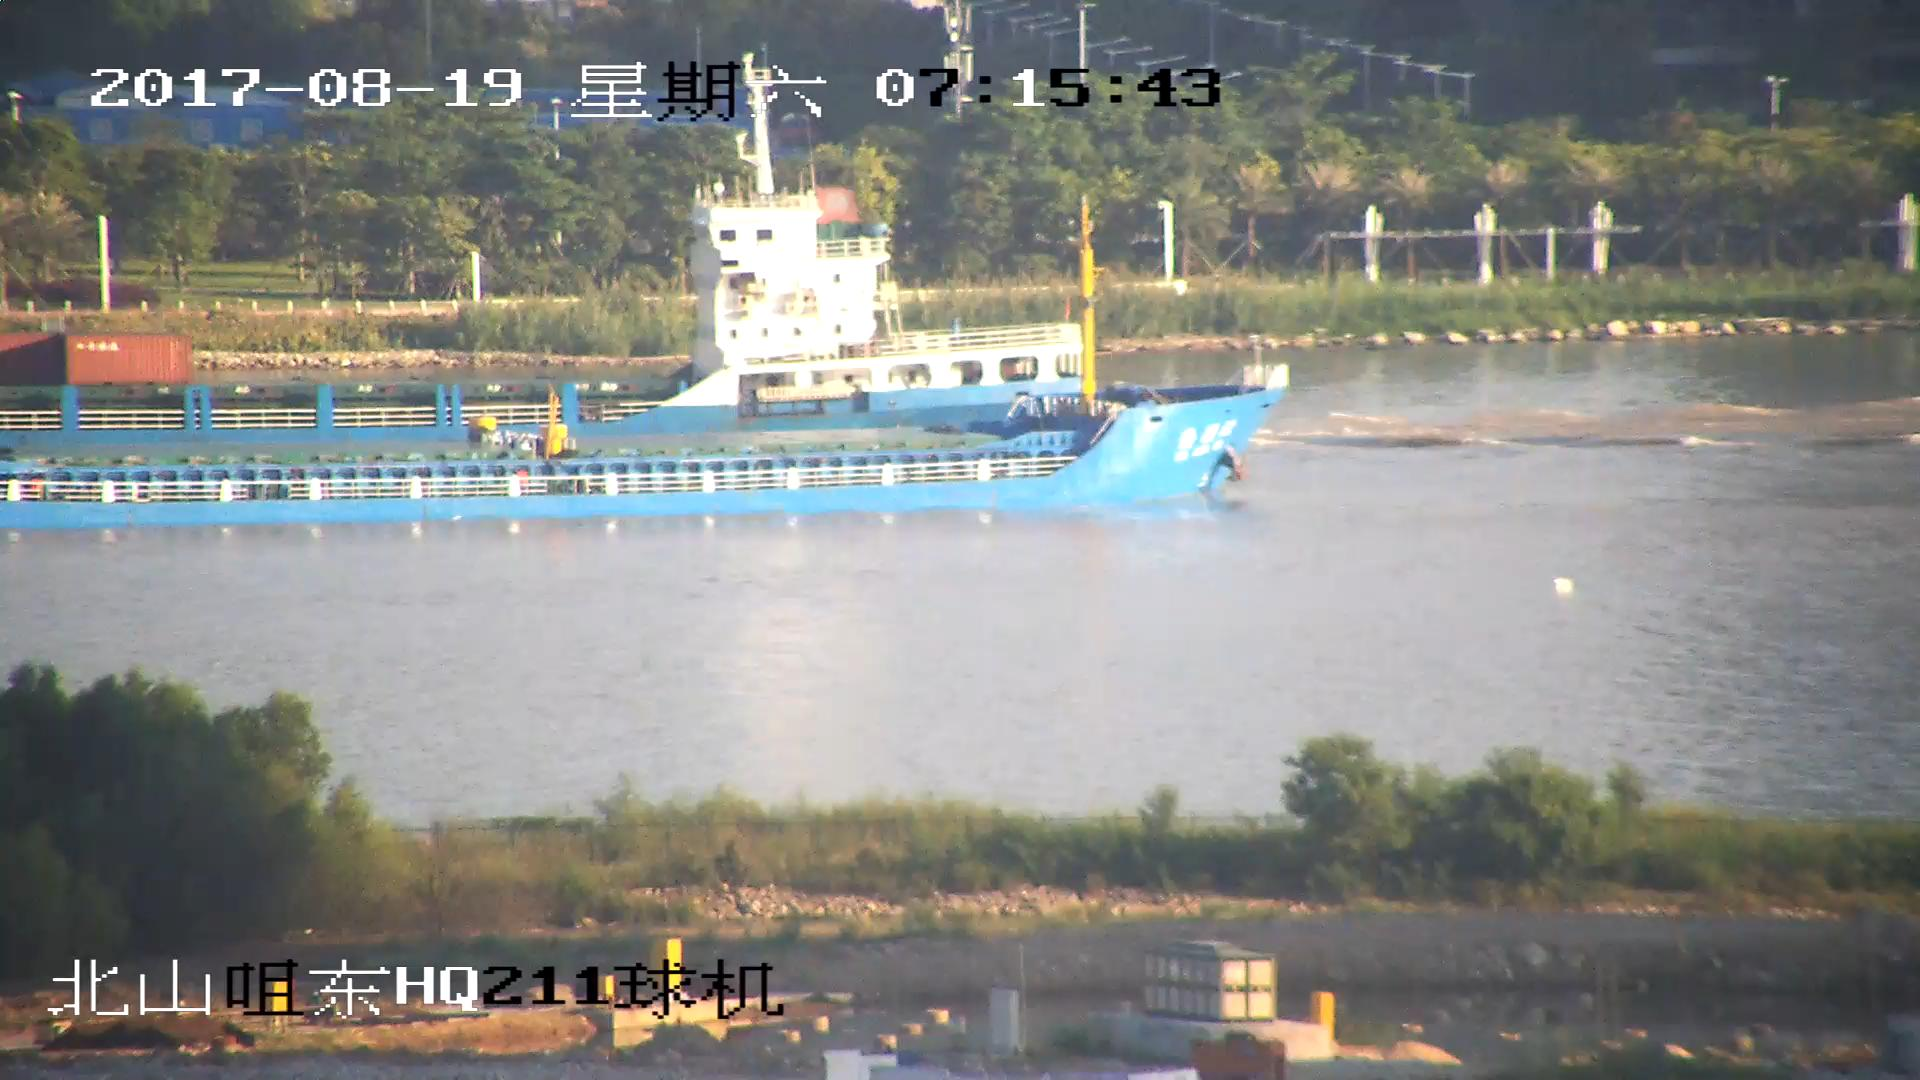general cargo ship: (1, 199, 1283, 533), (1, 115, 1076, 385)
